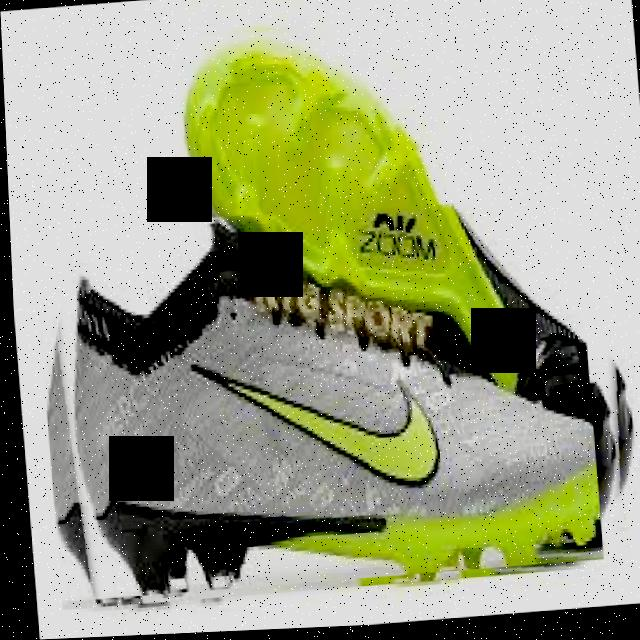shoe: (16, 0, 640, 610), (38, 189, 599, 601)
